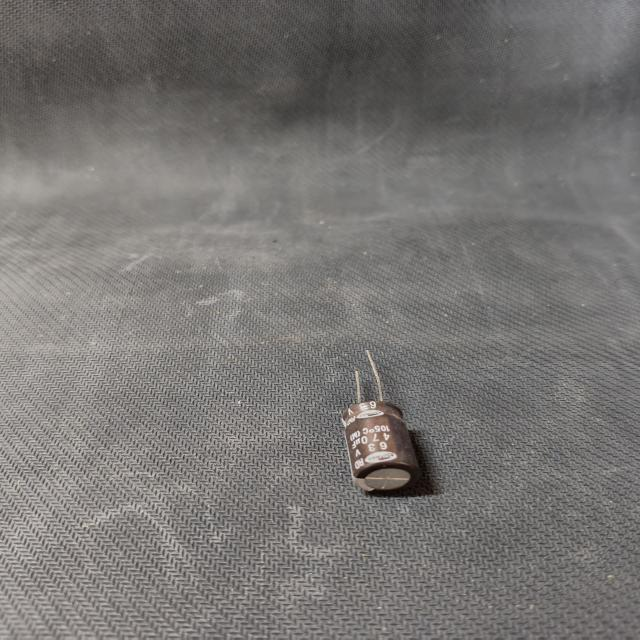capacitor: (329, 341, 433, 506)
